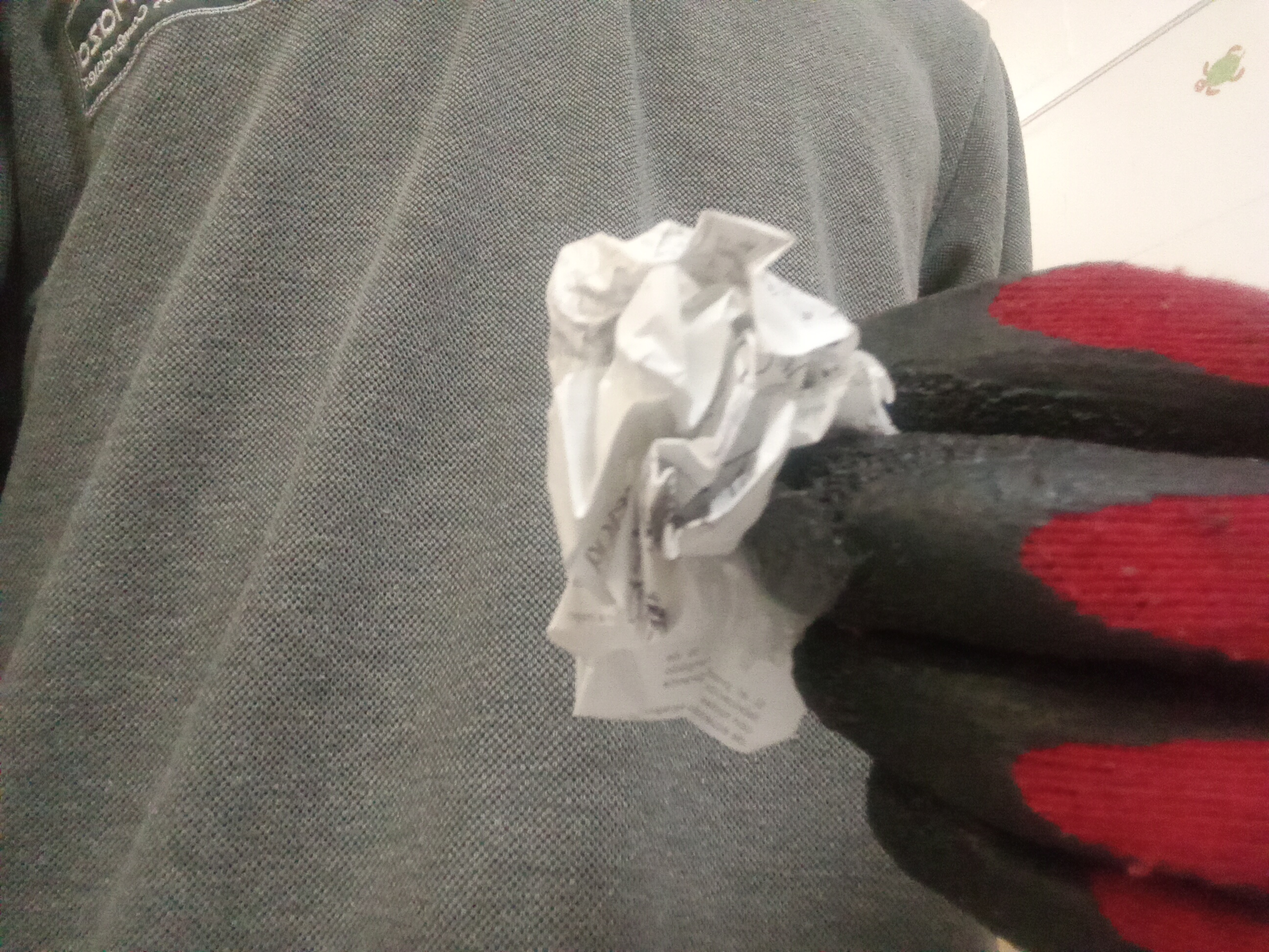Ordinario: (543, 208, 896, 757)
